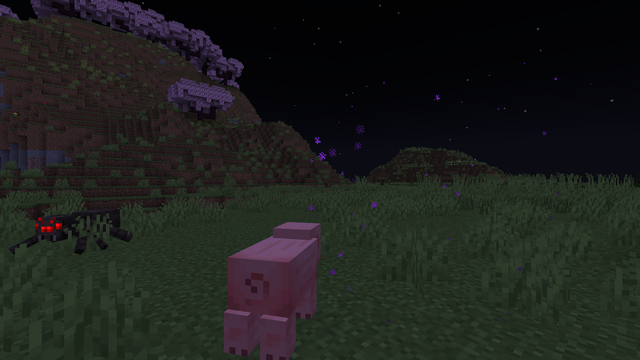araignees: (26, 205, 114, 259)
cochons: (224, 232, 335, 353)
